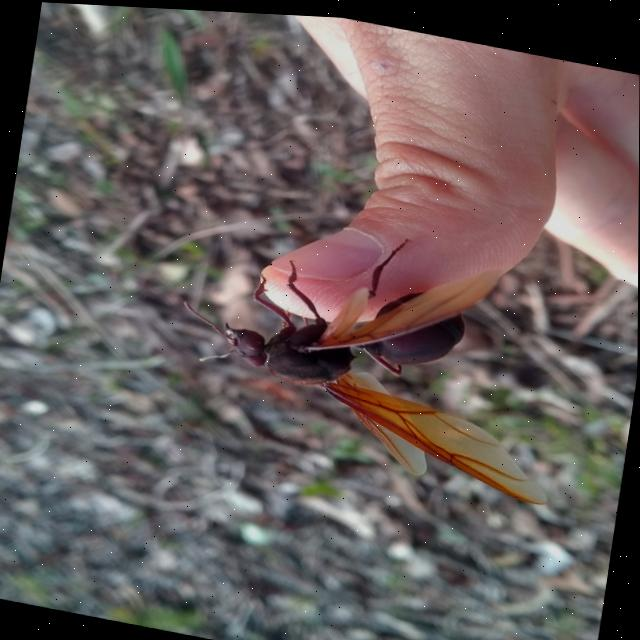Alive-Male-Alate: (167, 196, 583, 509)
